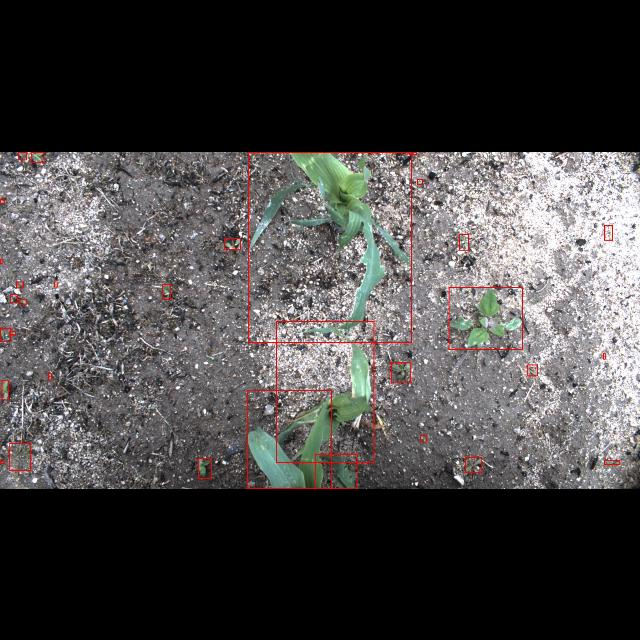crop: (248, 152, 412, 342), (276, 321, 374, 463), (247, 389, 331, 488), (315, 454, 357, 488)
weed: (448, 287, 522, 349), (10, 444, 30, 471), (391, 362, 411, 382), (198, 458, 212, 478), (466, 458, 482, 472), (224, 238, 240, 248), (459, 233, 469, 249), (0, 327, 10, 341), (31, 151, 44, 161), (604, 224, 612, 240), (2, 380, 8, 400), (527, 364, 537, 376), (162, 284, 170, 298), (18, 151, 27, 159), (604, 460, 620, 464), (10, 294, 18, 302), (16, 281, 24, 287), (19, 298, 26, 304), (420, 435, 426, 441), (48, 372, 52, 380), (0, 198, 6, 202), (418, 178, 422, 184), (54, 282, 58, 286), (409, 151, 416, 153), (8, 332, 15, 334), (603, 354, 605, 358), (0, 258, 2, 262), (0, 461, 4, 463)
